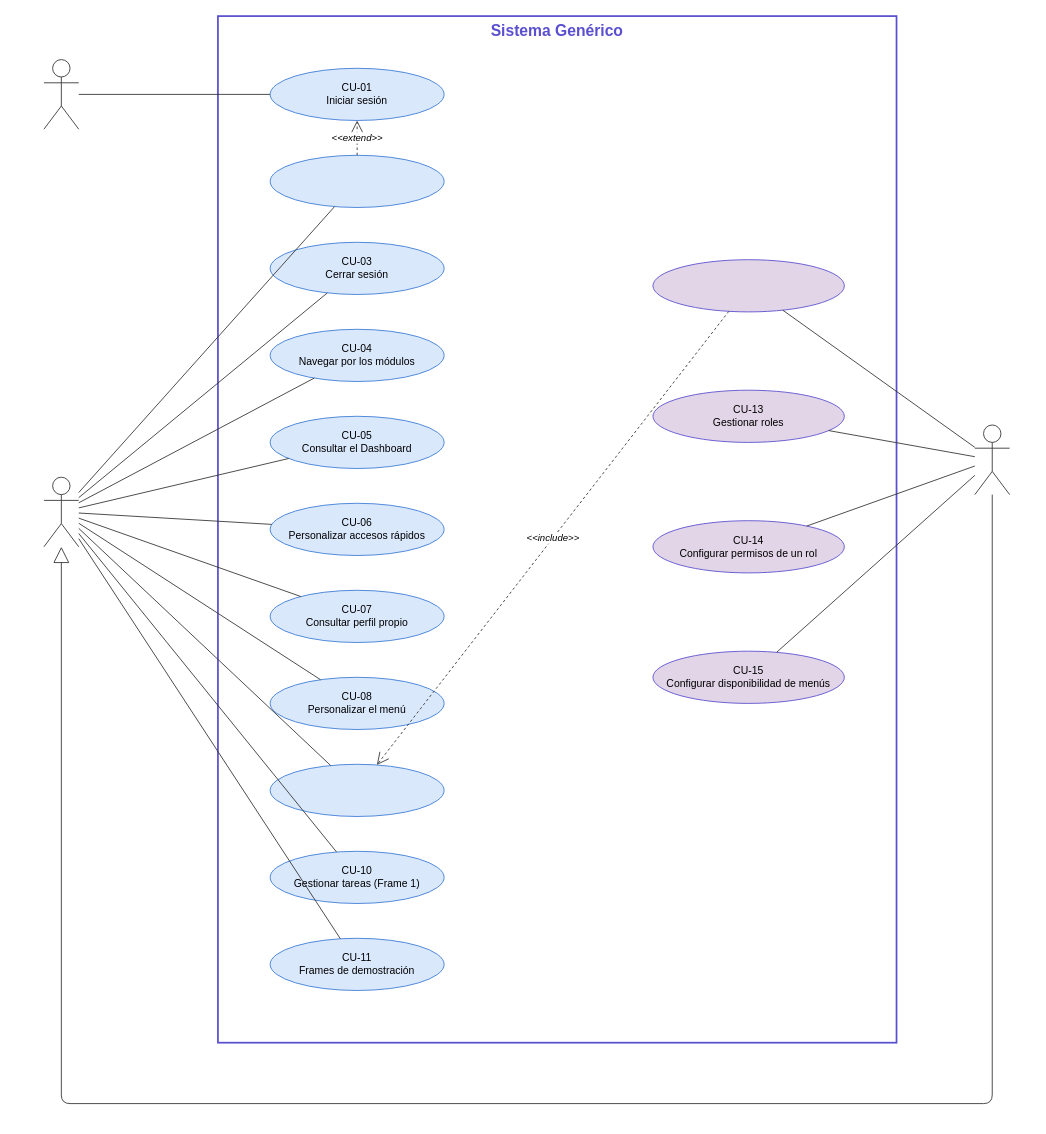
The diagram is 1046 pixels wide and 1134 high, and some of its shapes have lost their labels. Here are the shapes that lost their labels. From the top down, the box of each, then its label:
(43, 59, 79, 129): Visitante
(269, 154, 444, 207): CU-02 Cambiar contraseña
(652, 259, 844, 312): CU-12 Gestionar usuarios
(974, 424, 1010, 495): Administrador
(43, 476, 79, 547): Usuario estándar
(269, 763, 444, 816): CU-09 Consultar usuarios
